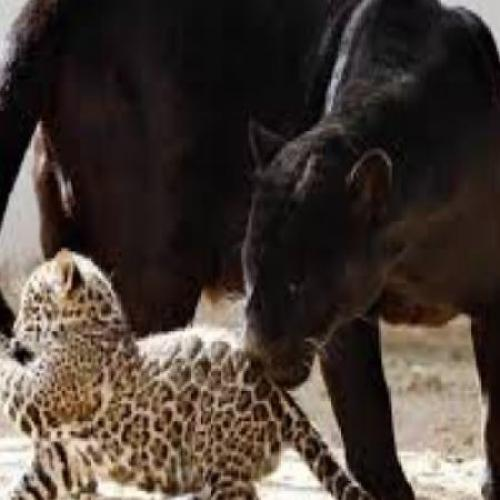panther-endangered: (11, 14, 486, 486)
